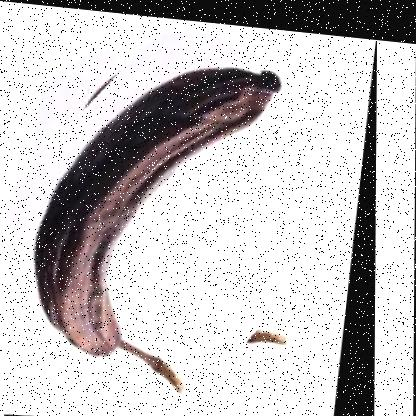banana_rotten: (4, 1, 379, 415)
